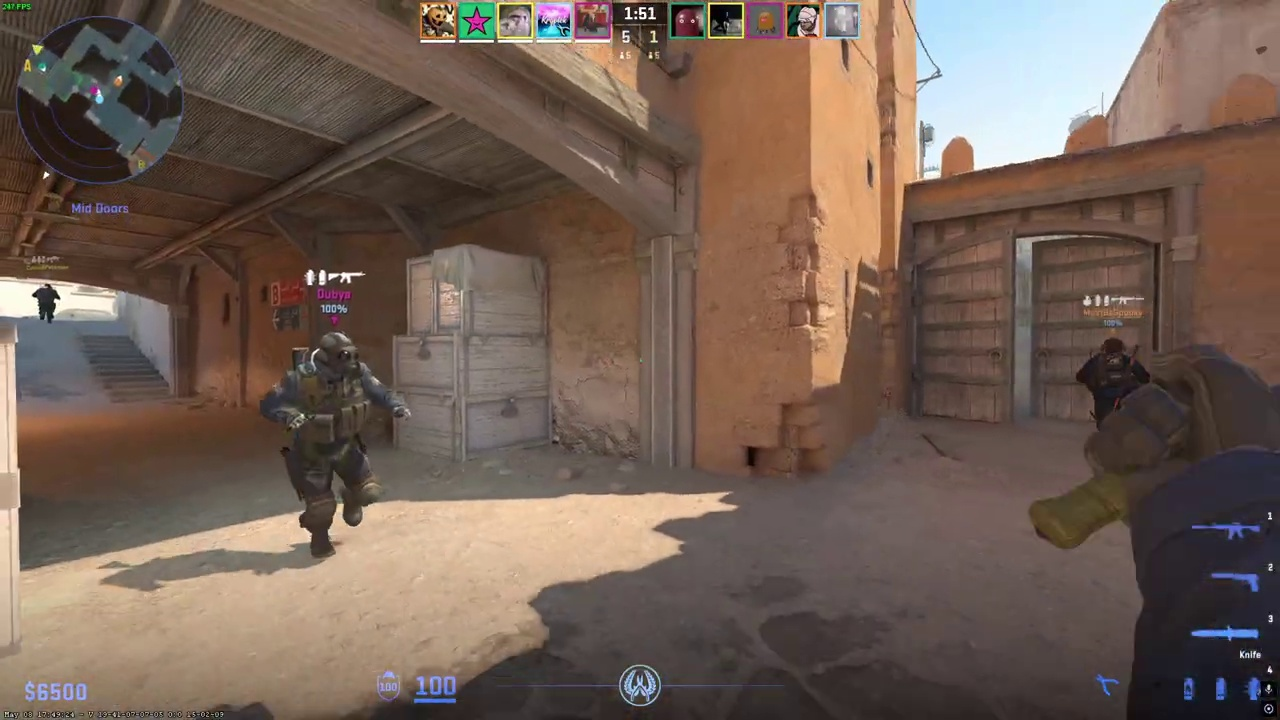CT: (272, 330, 388, 558), (1085, 338, 1139, 430), (35, 283, 58, 324)
